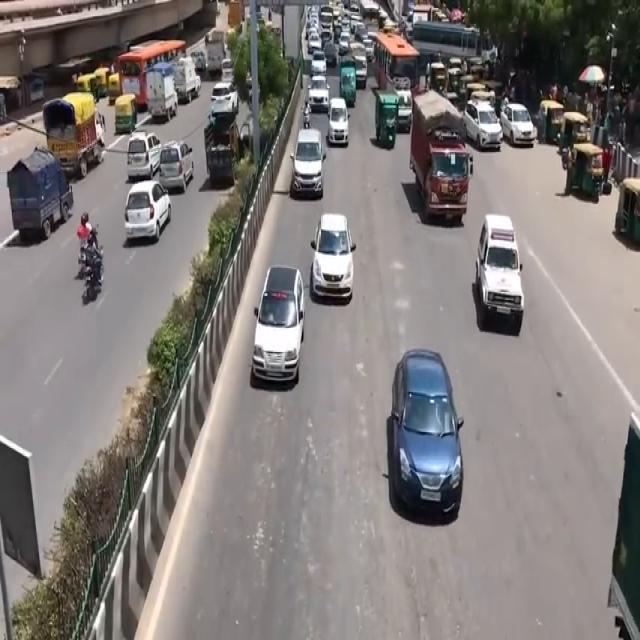MOTORCYCLE: (80, 250, 104, 308)
TRUCK: (410, 119, 472, 226), (43, 91, 103, 179), (145, 67, 178, 123)
